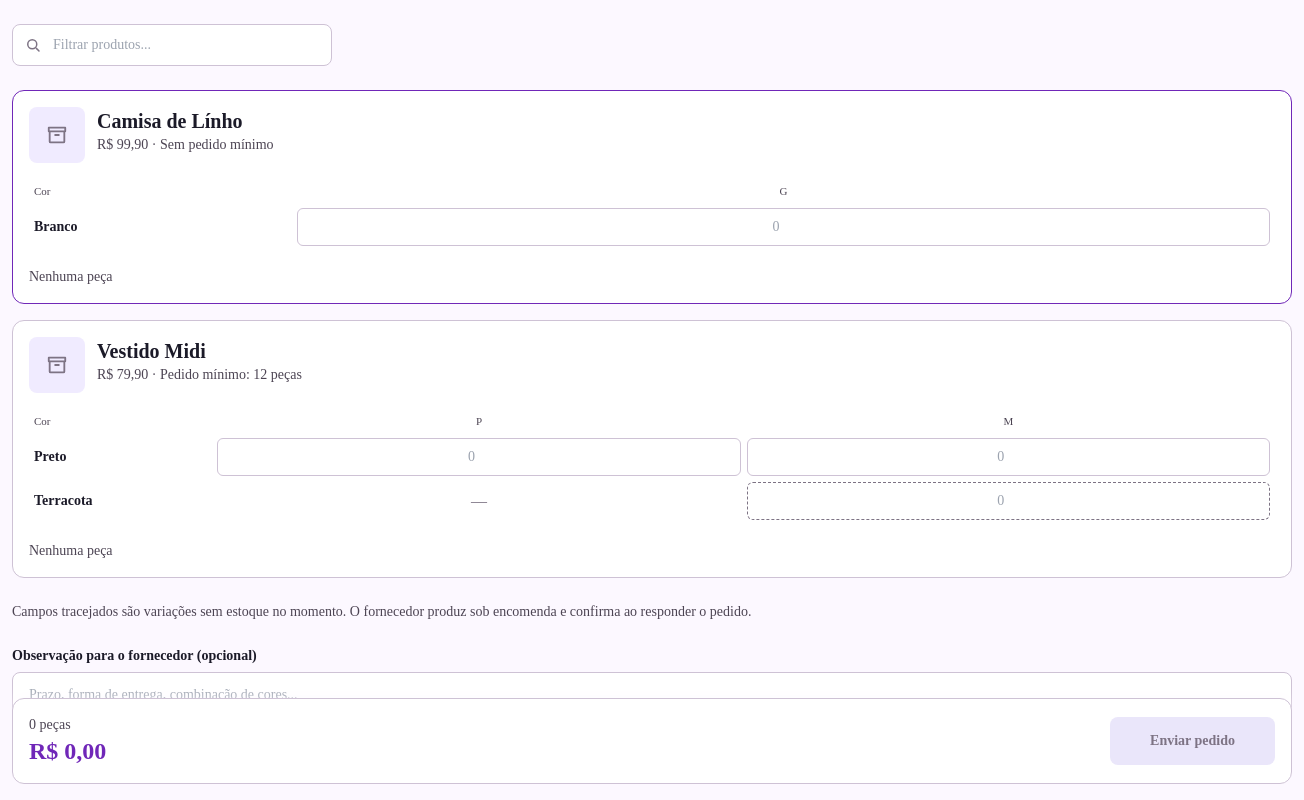
Test case: OrderBuilder › filters products ignoring accents and puts the focused product first
Check: the headings read "Camisa de Línho", "Vestido Midi", in this order, box [97,110,243,132]; [97,340,206,362]
In the search field with placeholder "Filtrar produtos...": (172, 45) [12,24,332,66], type "linho"
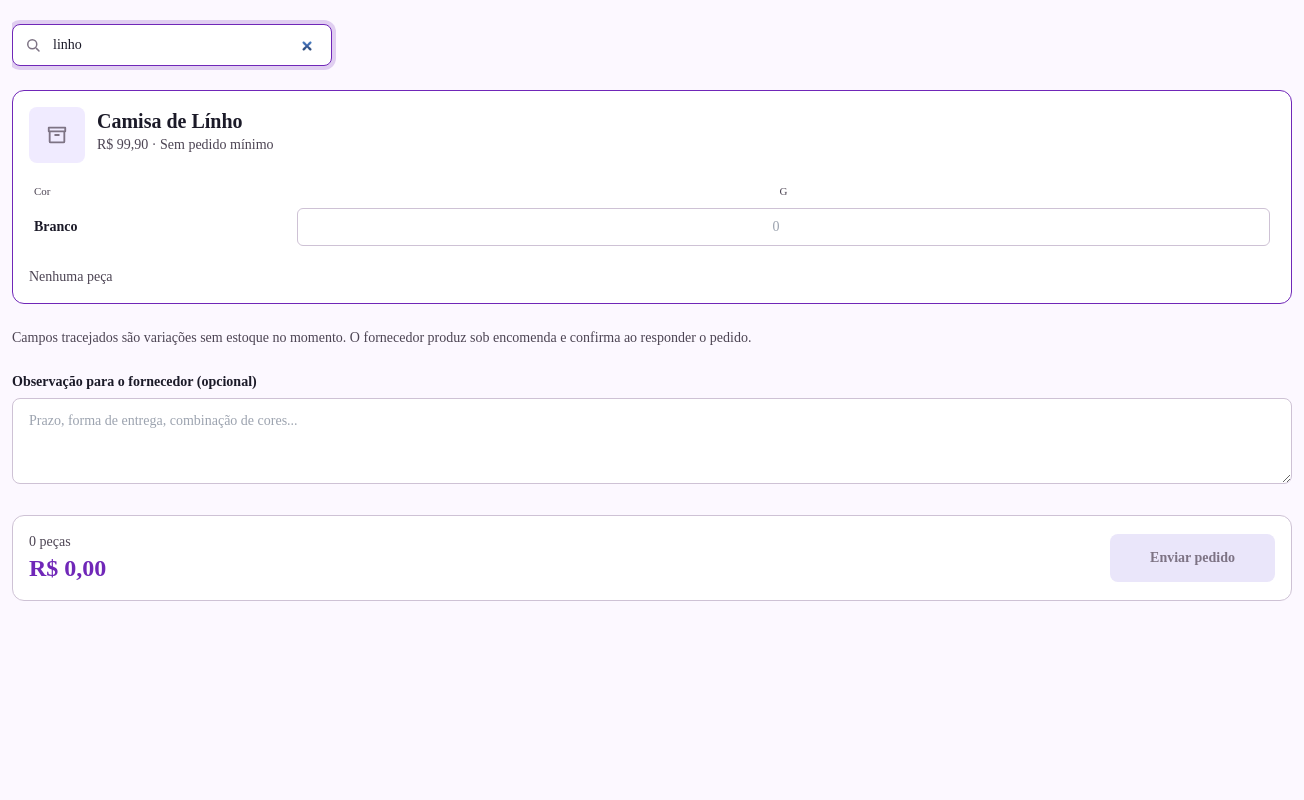
Check: the heading "Vestido Midi" is gone
Replace the text in the search field with placeholder "Filtrar produtos..." with "xyz": (172, 45) [12,24,332,66]
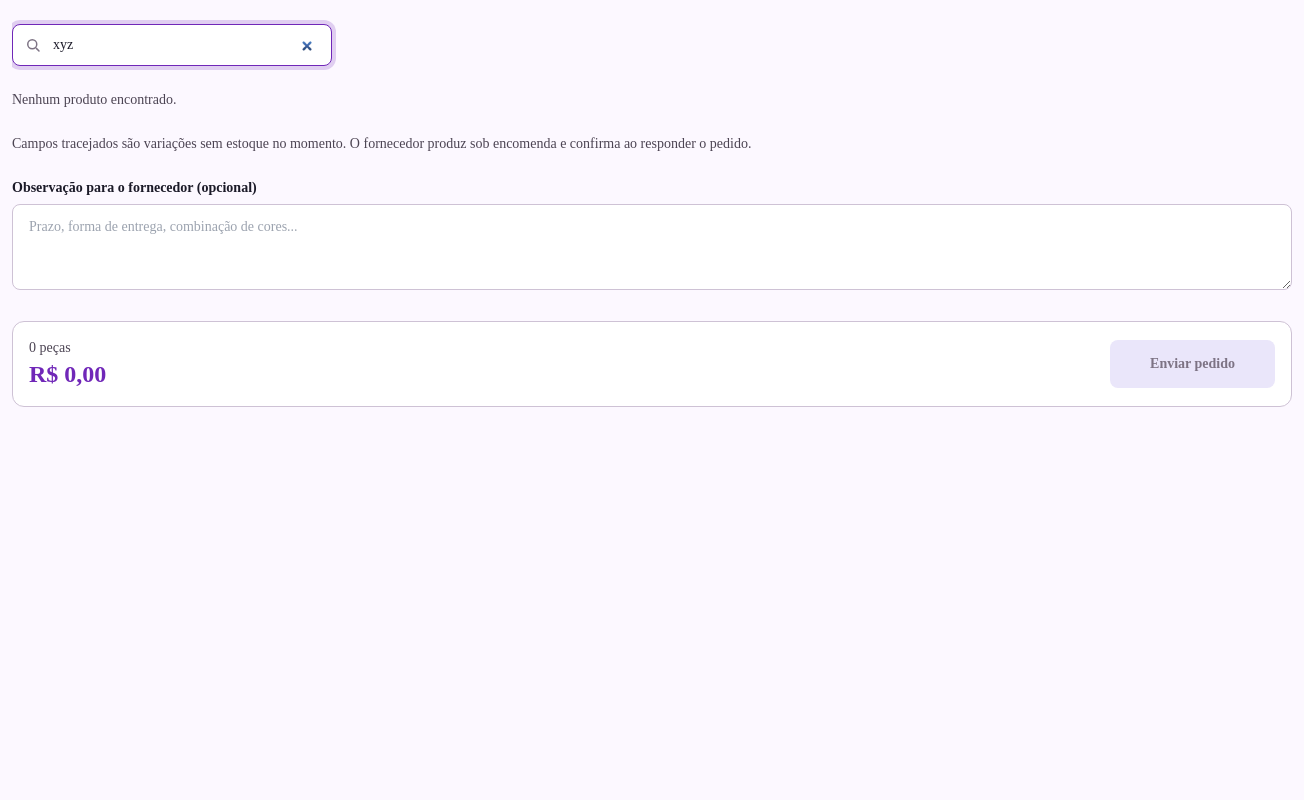
Check: the text "Nenhum produto encontrado." is shown, box [12,92,176,107]
